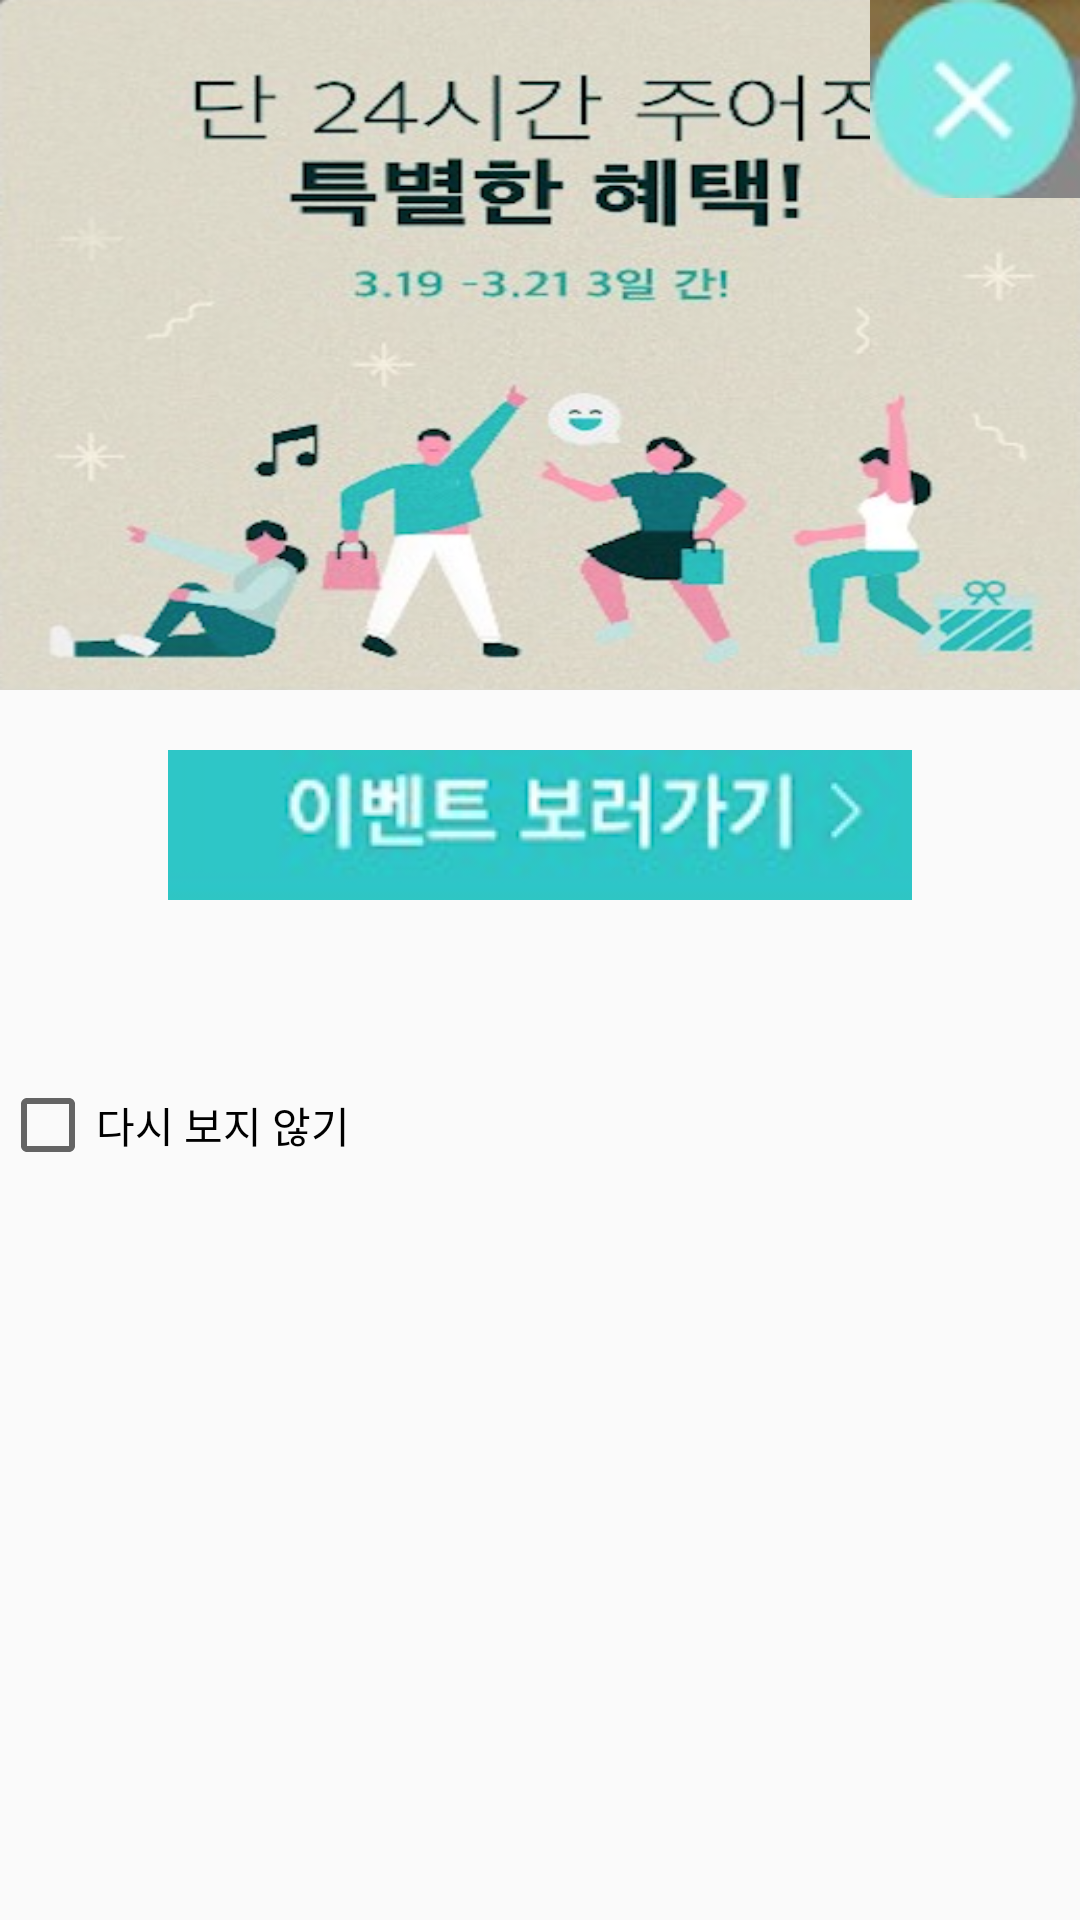

Screen size 1080px×1920px. Icon name, then its center in pixels as point (x, y):
mainpopupx: point (975, 99)
